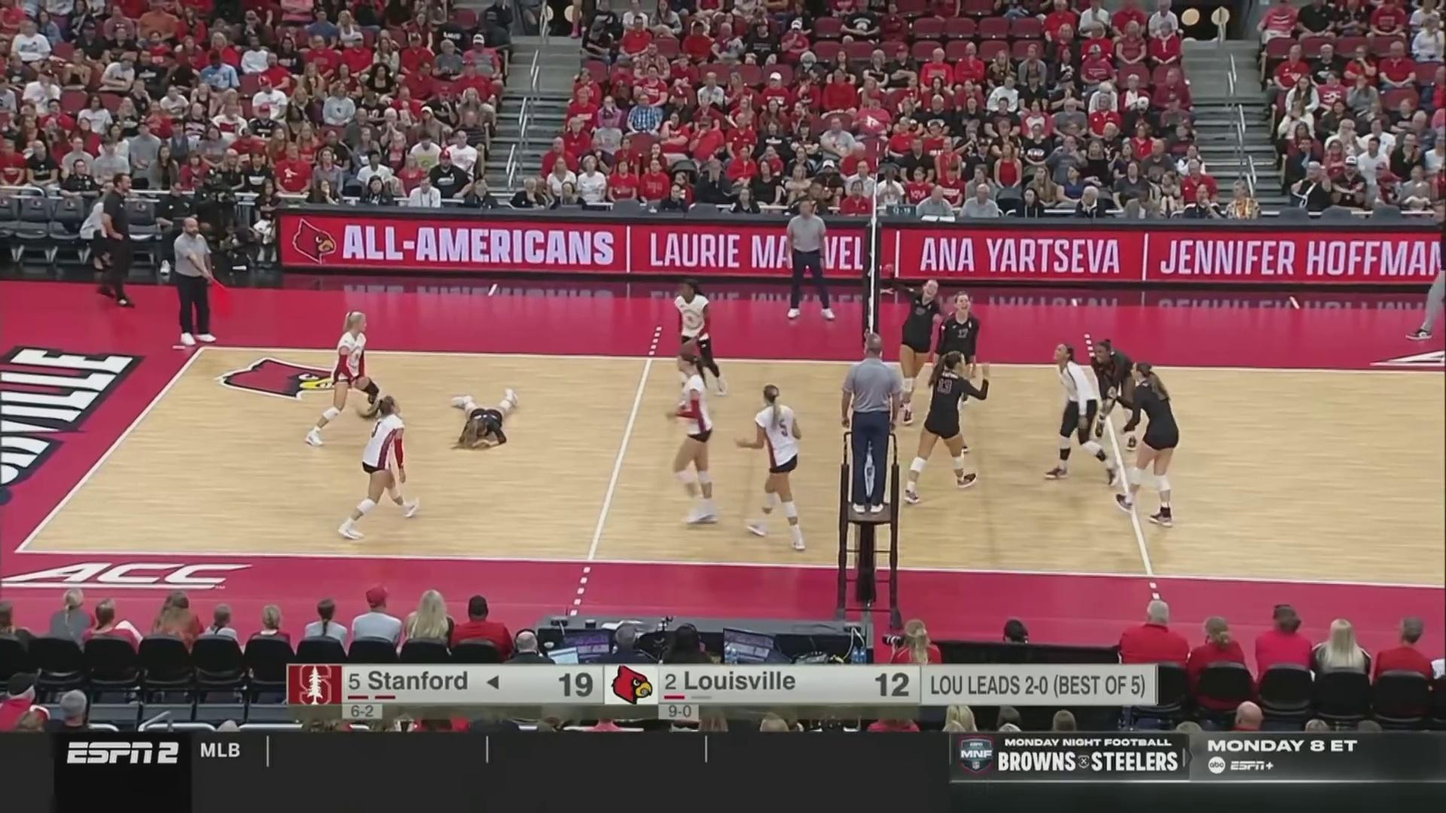player: (306, 306, 395, 447), (337, 393, 423, 538), (1109, 365, 1184, 531), (923, 285, 990, 458), (910, 350, 987, 494), (666, 343, 724, 531), (740, 387, 807, 544), (1050, 342, 1122, 485), (663, 286, 727, 428), (1089, 329, 1143, 457), (450, 384, 522, 454)
refree: (838, 347, 908, 519), (157, 216, 218, 347), (783, 194, 836, 324)
